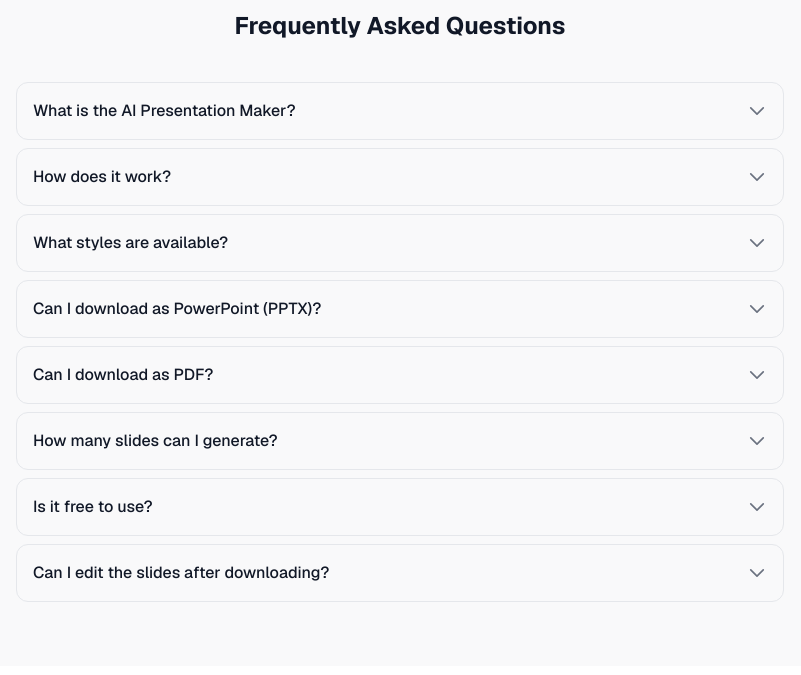
Test: PresentationMakerFAQ › expands and collapses on click
The image size is (801, 675).
Expected: the text "uses artificial intelligence" is not shown
Click to expand
Click the button "What is the AI Presentation Maker?": (164, 110) [17,83,783,139]
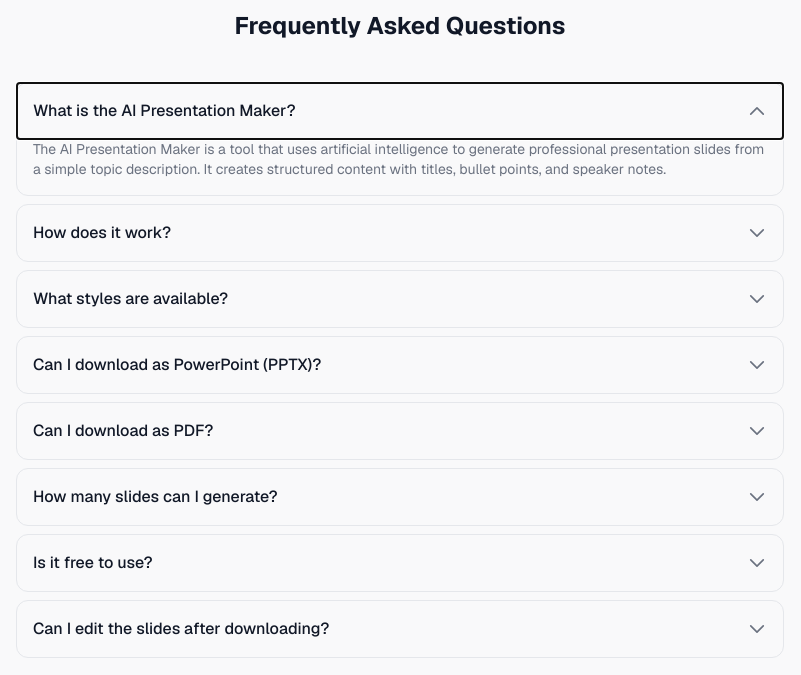
Now the text "uses artificial intelligence" is shown, box [33,140,764,178]
Click to collapse
Click the button "What is the AI Presentation Maker?": (164, 110) [17,83,783,139]
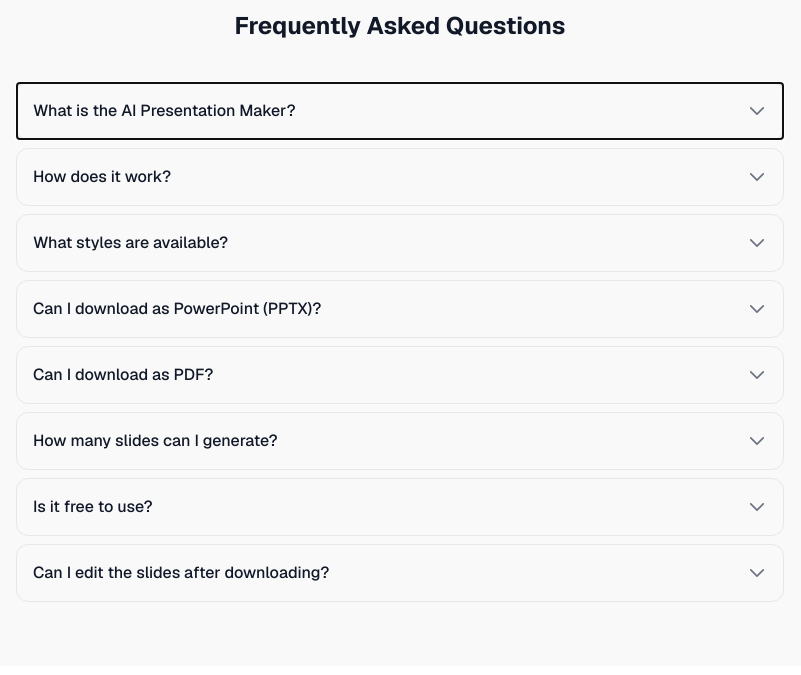
Now the text "uses artificial intelligence" is gone
